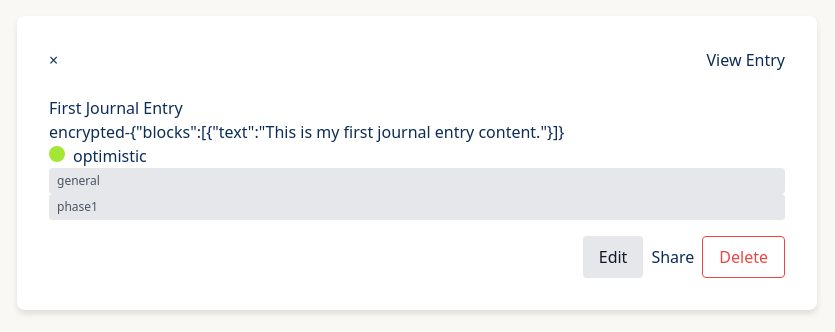
Test: JournalEntryView Component › shows share modal
Click the button "Share".
click(673, 257)  # box left=651, top=236, right=694, bottom=278
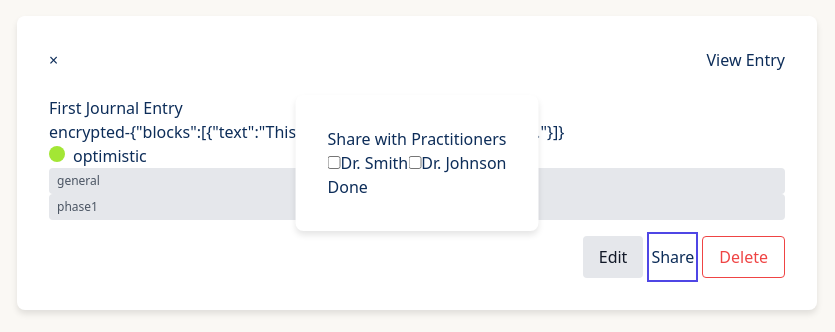
Expected: the heading "Share with Practitioners" is shown, left=328, top=127, right=506, bottom=151
Expected: the text "Dr. Smith" is shown, left=328, top=152, right=408, bottom=174
Expected: the text "Dr. Johnson" is shown, left=408, top=152, right=506, bottom=174
